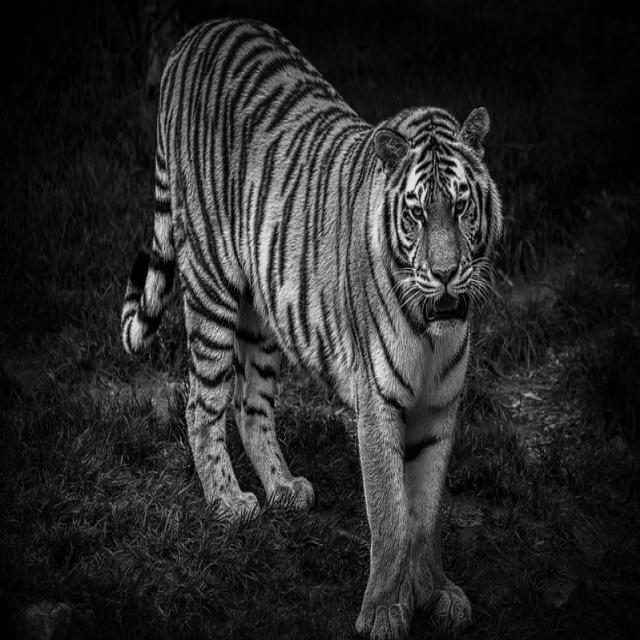Tiger: (118, 15, 501, 638)
